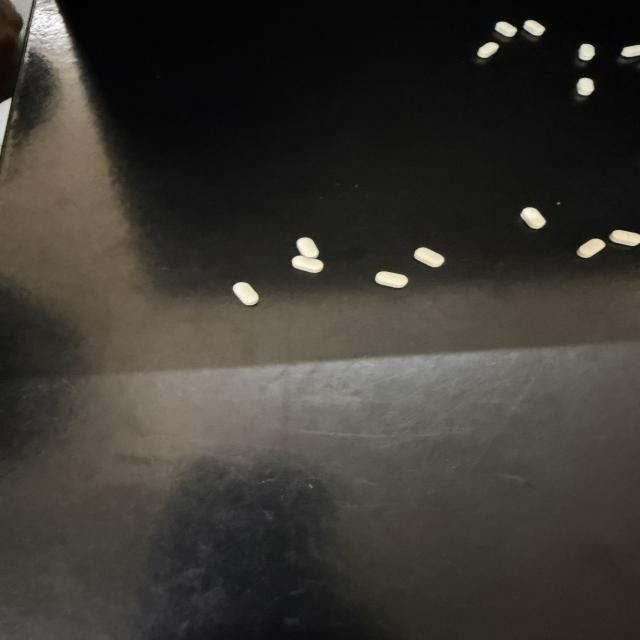pill: (233, 282, 259, 305), (414, 248, 444, 267), (375, 271, 408, 288), (521, 207, 546, 229), (577, 239, 605, 258), (292, 256, 323, 273), (610, 230, 639, 246), (297, 237, 318, 258), (495, 21, 517, 37), (524, 20, 545, 36), (478, 42, 499, 58), (577, 78, 594, 95), (578, 44, 595, 60), (621, 45, 639, 57)
